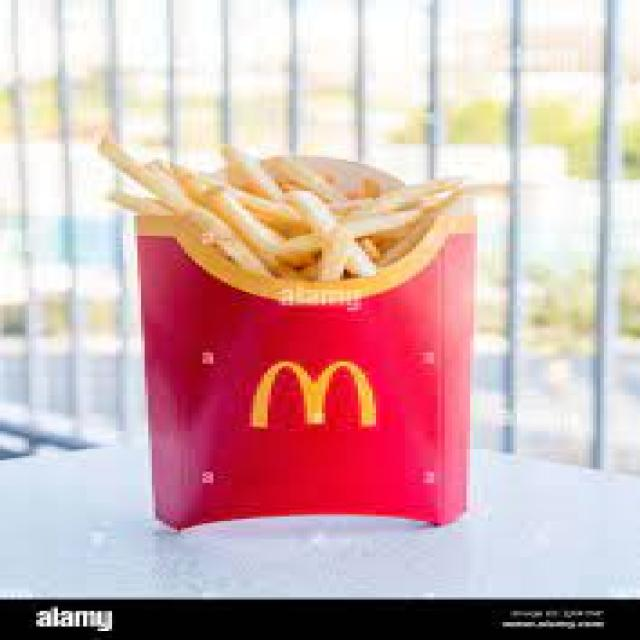감자튀김: (90, 130, 504, 546), (98, 139, 459, 301)
